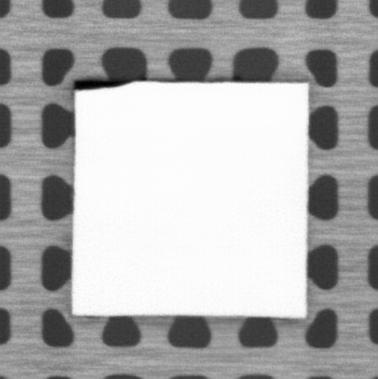DIE_BROKEN: (72, 78, 136, 93)
